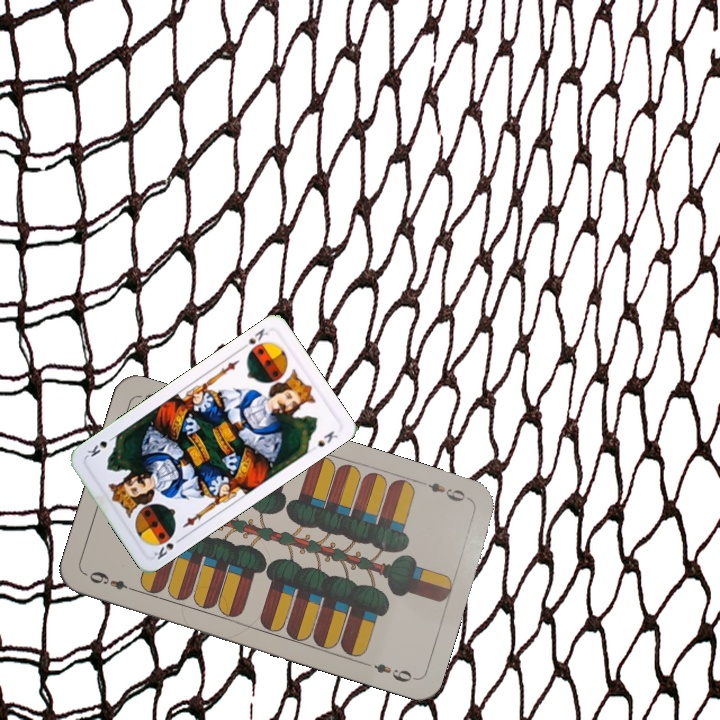E9: (415, 476, 472, 505), (85, 567, 140, 595)
SK: (150, 533, 186, 562), (237, 324, 270, 353)
